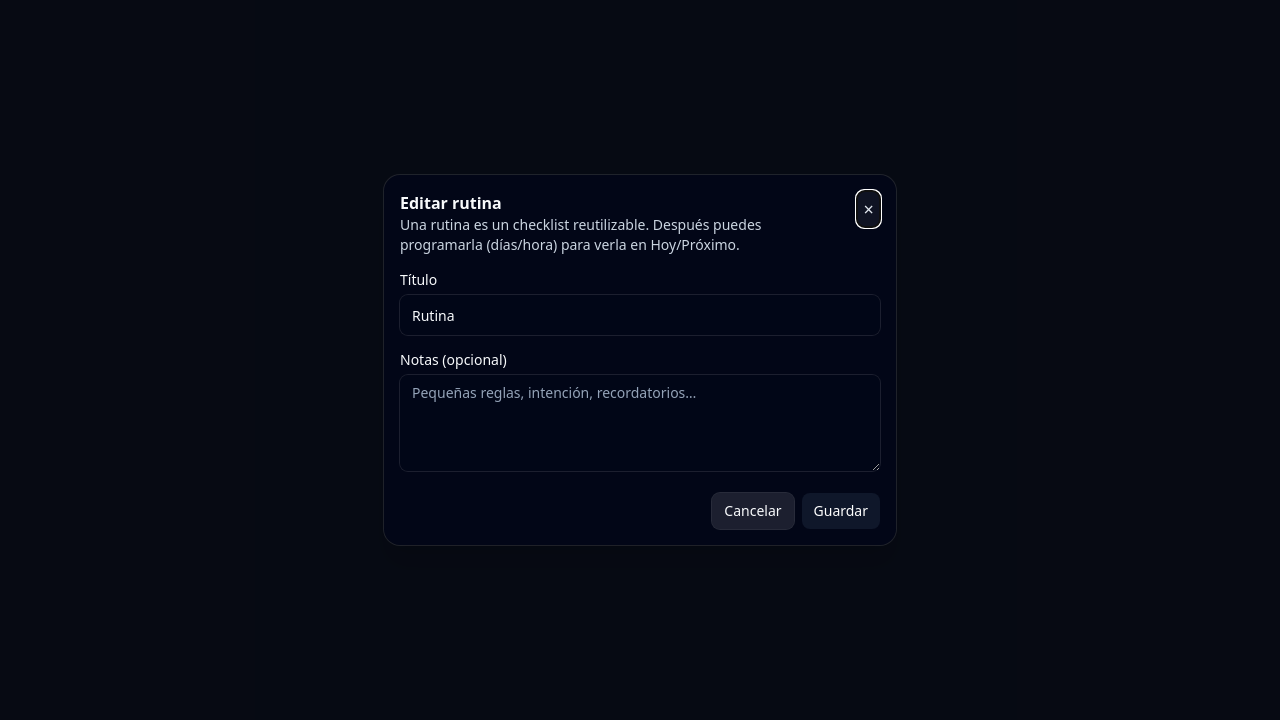
RoutineFormModal › shows the specific error message when saving fails with a real Error
This screenshot has width=1280, height=720.
Step 1. Click the button "Guardar" → coordinates (841, 511), box [802,493,880,529]
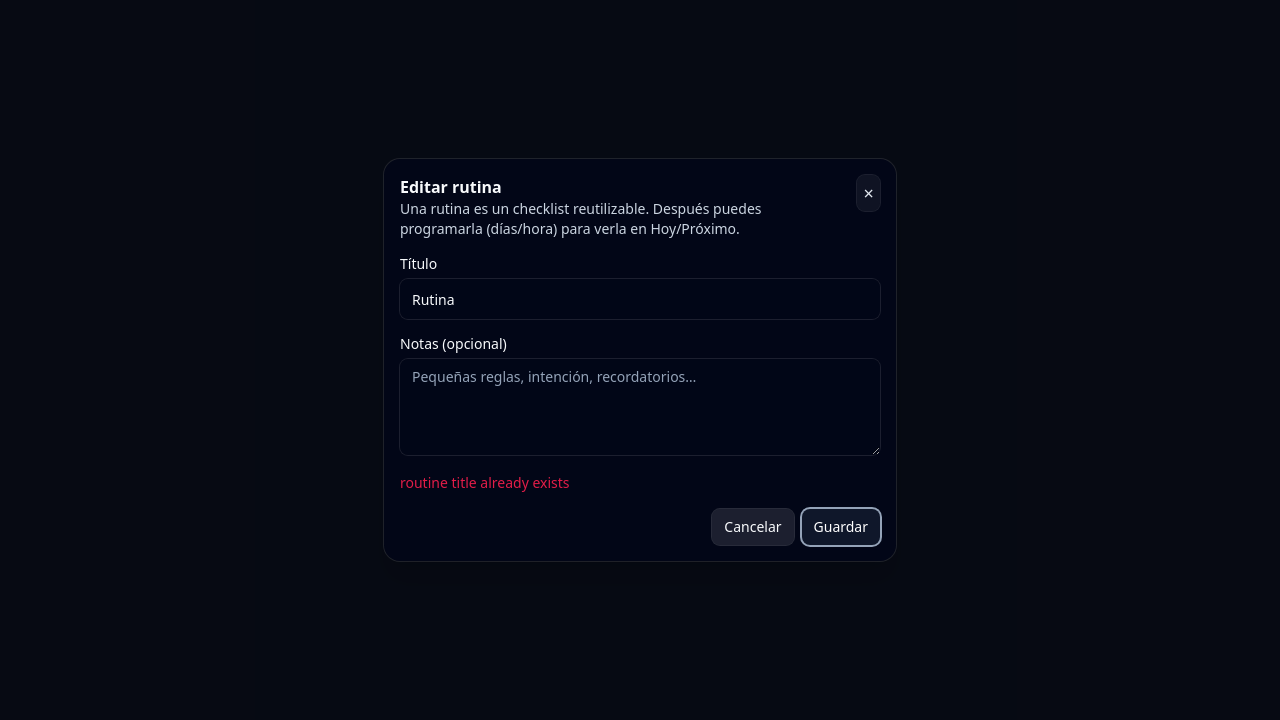
Check: the text "routine title already exists" is shown, box [400,473,570,492]
